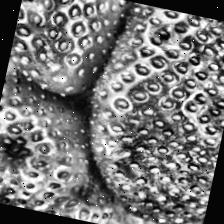Anthracnose Fruit Rot: (91, 2, 224, 224), (0, 126, 39, 171), (17, 0, 62, 26)
